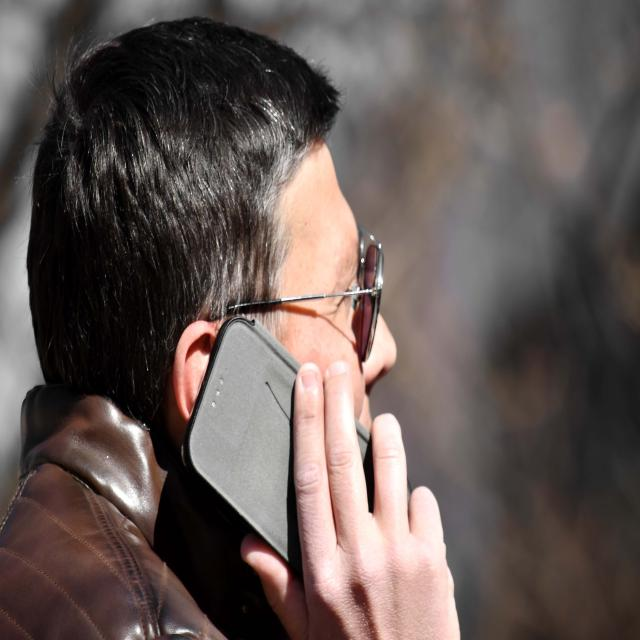phone: (181, 312, 412, 582)
